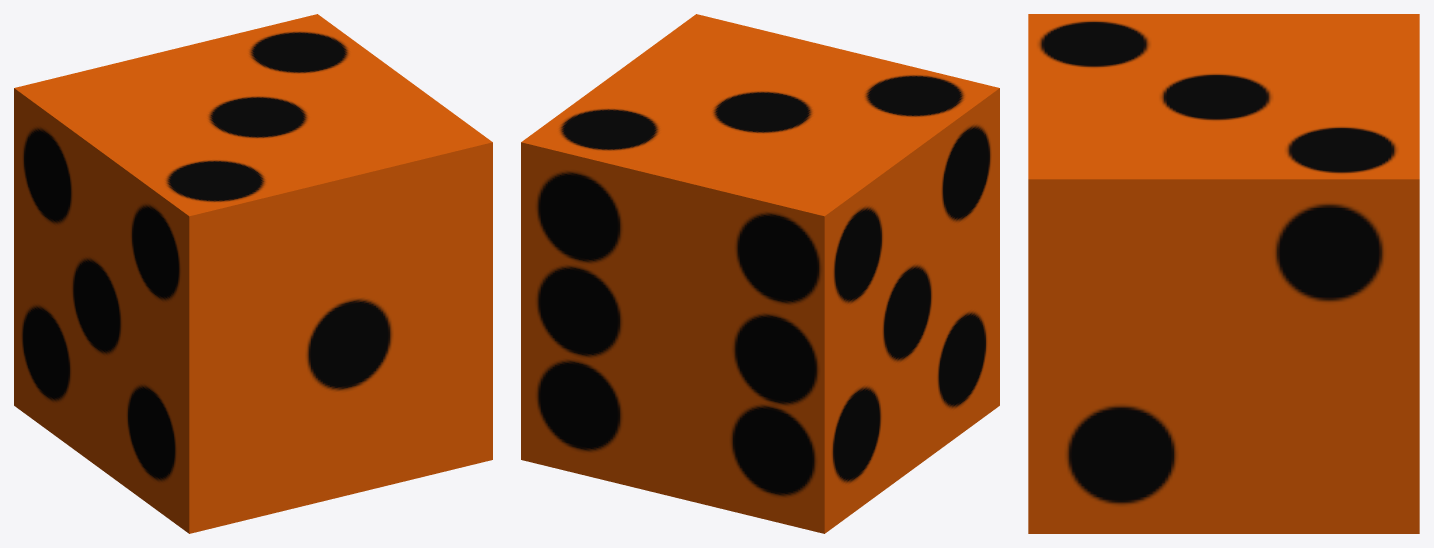
File: Saikoro.fbx
The picture shows the model from 3 angles, left to right: view 1: azimuth 30°, elevation 25°; view 2: azimuth 150°, elevation 25°; view 3: azimuth 270°, elevation 25°; orthographic projection. The views are drawn at different scales.
Visible parts, largest first — view 1: pCube3; view 2: pCube3; view 3: pCube3.
Part boxes in pixels (<box>): pCube3: <box>14,14,492,533</box>; pCube3: <box>521,14,999,533</box>; pCube3: <box>1028,14,1419,533</box>.
Bounding box in the file's own units: 1 × 1 × 1.
Materials: 1 (1 with a texture image).
